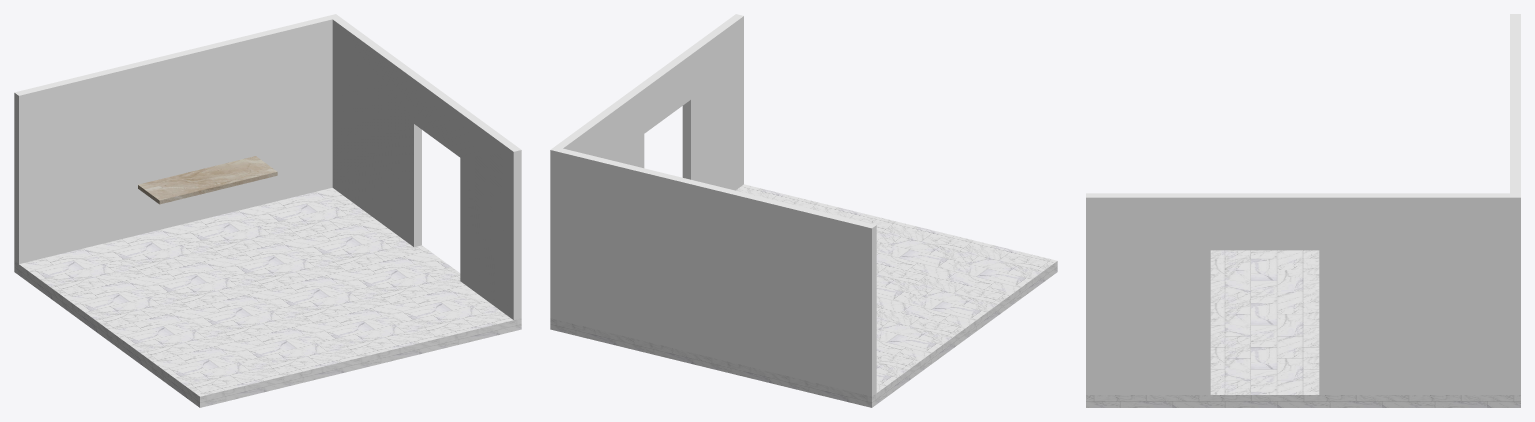
The model's file is TestSceneWithCamera.gltf.
3 views of the same model, side by side, from view 1: azimuth 30°, elevation 25°; view 2: azimuth 150°, elevation 25°; view 3: azimuth 270°, elevation 25° (orthographic). The views are drawn at different scales.
Visible parts, largest first — view 1: Box001, Box002, Box003, Box004; view 2: Box002, Box001, Box003; view 3: Box003, Box001, Box002.
Part boxes in pixels (bbox=[...]): Box001: bbox=[14, 187, 521, 407]; Box002: bbox=[14, 14, 340, 263]; Box003: bbox=[332, 17, 521, 319]; Box004: bbox=[138, 156, 277, 204]; Box002: bbox=[550, 146, 876, 396]; Box001: bbox=[550, 184, 1057, 407]; Box003: bbox=[555, 14, 743, 190]; Box003: bbox=[1086, 193, 1509, 394]; Box001: bbox=[1086, 250, 1520, 407]; Box002: bbox=[1510, 14, 1520, 394].
Size of the model in its own units: 6 by 3.2 by 6.
3 materials, 2 textured.
